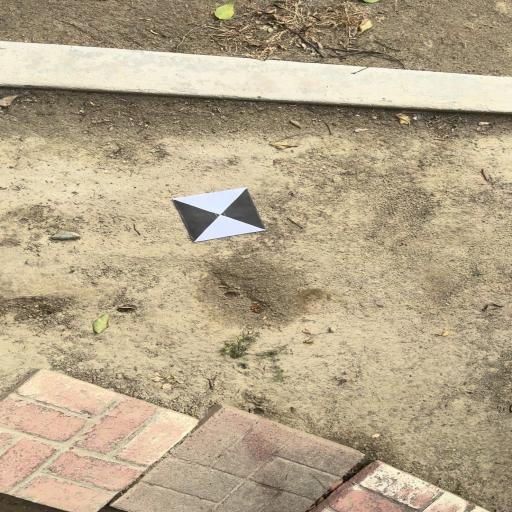target: (175, 188, 266, 242)
